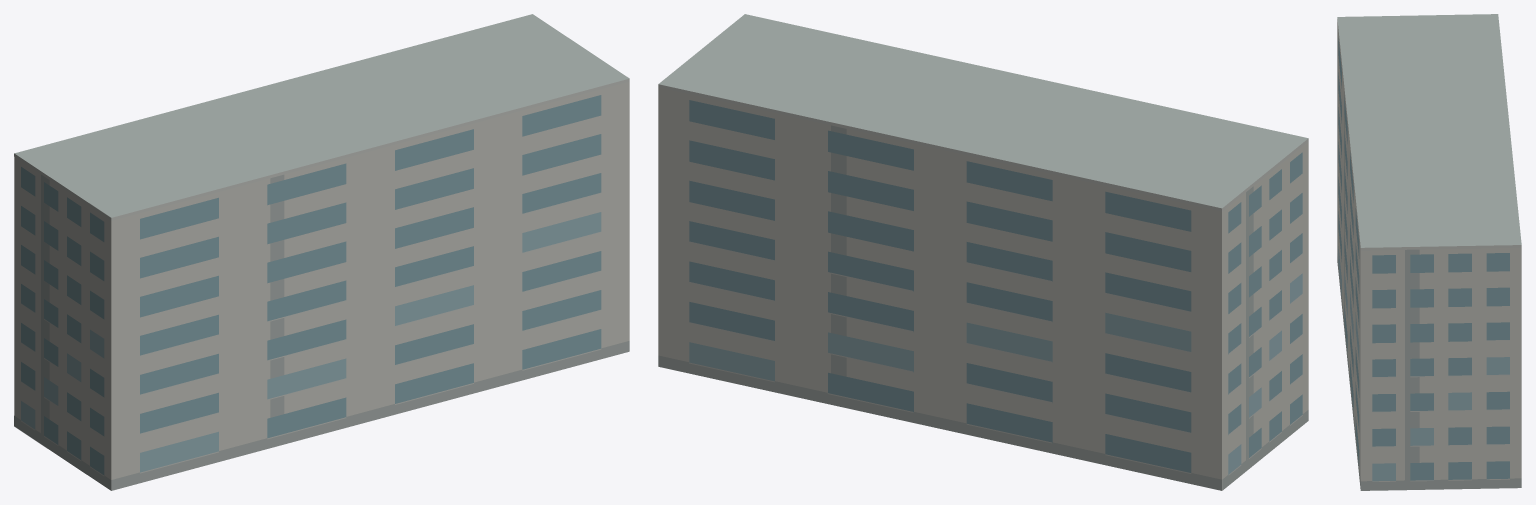
File: residential-befda7e7-74c5-424a-9d8d-91296237ddee.glb
3 views of the same model, side by side, from view 1: azimuth 30°, elevation 25°; view 2: azimuth 150°, elevation 25°; view 3: azimuth 270°, elevation 25° (orthographic). The views are drawn at different scales.
Visible parts, largest first — view 1: residential-befda7e7-74c5-424a-9d8d-91296237ddee.tmp; view 2: residential-befda7e7-74c5-424a-9d8d-91296237ddee.tmp; view 3: residential-befda7e7-74c5-424a-9d8d-91296237ddee.tmp.
Part boxes in pixels (x1,y1,x2,y2): residential-befda7e7-74c5-424a-9d8d-91296237ddee.tmp: [14, 14, 629, 490]; residential-befda7e7-74c5-424a-9d8d-91296237ddee.tmp: [658, 14, 1308, 490]; residential-befda7e7-74c5-424a-9d8d-91296237ddee.tmp: [1337, 14, 1521, 490].
Bounding box in the file's own units: 44.07 × 21.35 × 14.7.
